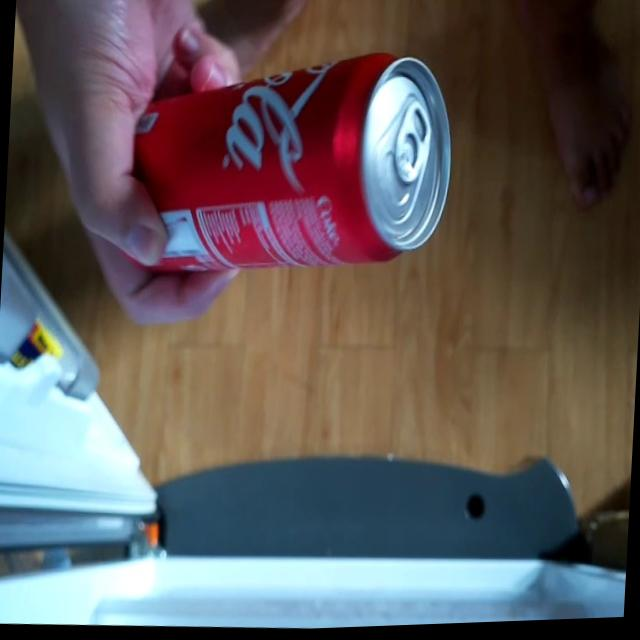coke: (116, 36, 460, 283)
